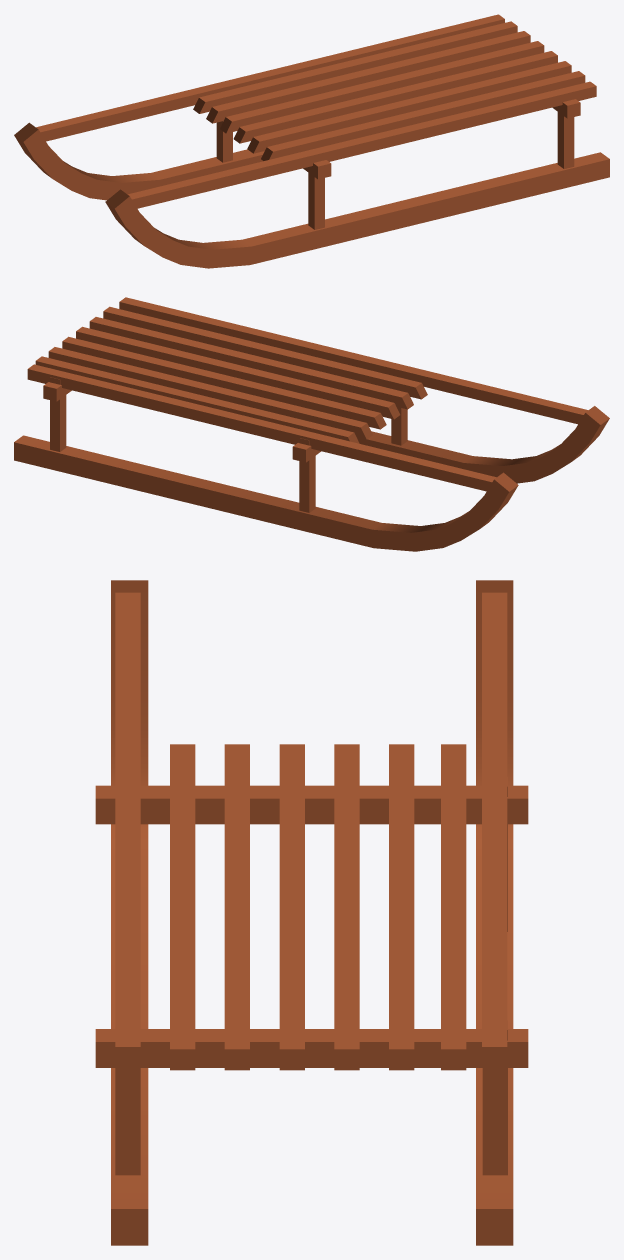
File: Sled_1371.obj
The picture shows the model from 3 angles, top to bottom: view 1: azimuth 30°, elevation 25°; view 2: azimuth 150°, elevation 25°; view 3: azimuth 270°, elevation 25°; orthographic projection. The views are drawn at different scales.
Visible parts, largest first — view 1: Box009; view 2: Box009; view 3: Box009.
Part boxes in pixels (x1=…): Box009: x1=14, y1=14, x2=609, y2=268; Box009: x1=14, y1=297, x2=609, y2=551; Box009: x1=95, y1=580, x2=528, y2=1245.
Bounding box in the file's own units: 113 × 21.34 × 42.55.
